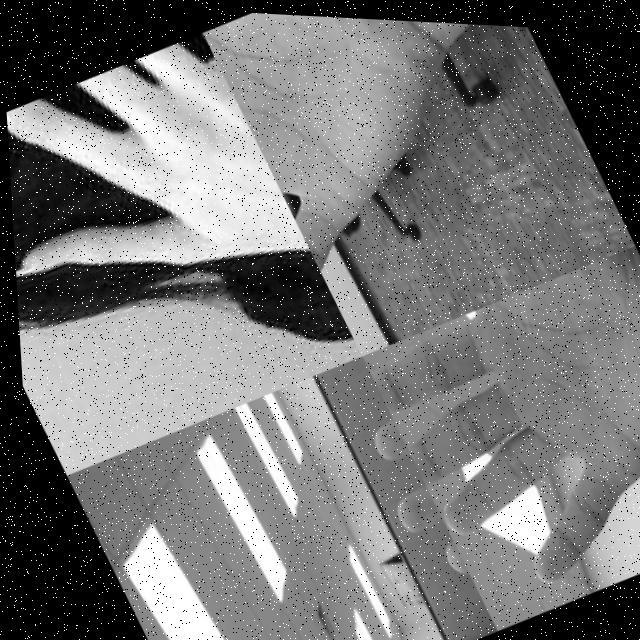no-gloves: (1, 23, 336, 416), (351, 227, 640, 609), (200, 9, 515, 312)
